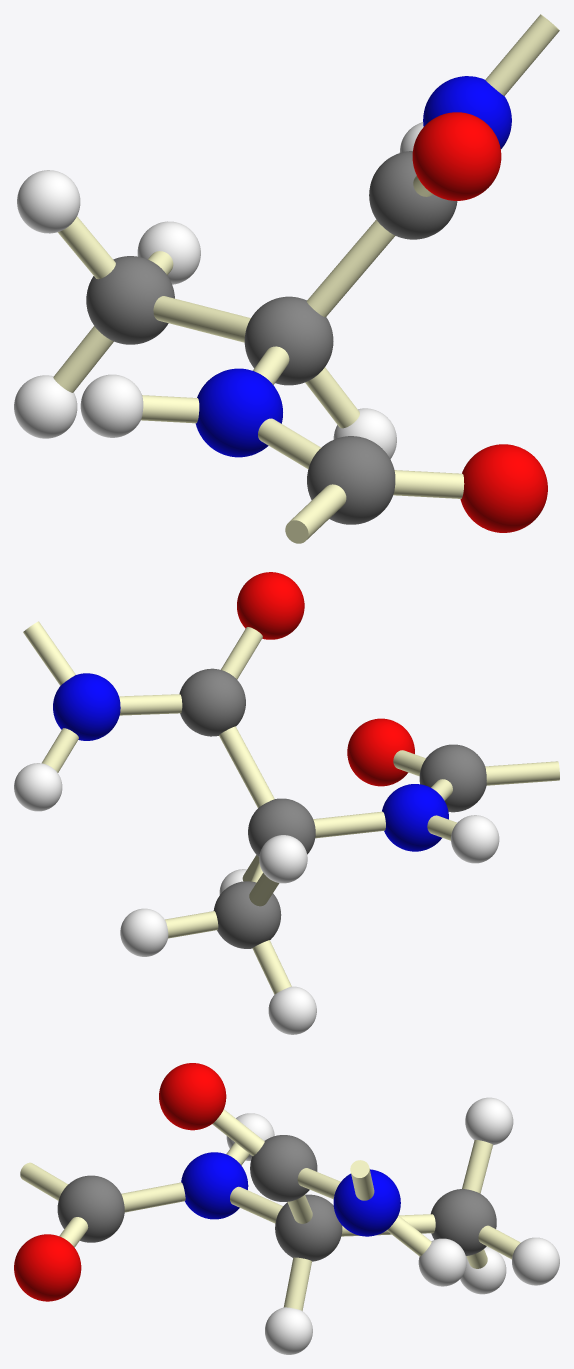
File: conformation.gltf
The picture shows the model from 3 angles, top to bottom: view 1: azimuth 30°, elevation 25°; view 2: azimuth 150°, elevation 25°; view 3: azimuth 270°, elevation 25°; orthographic projection. The views are drawn at different scales.
Parts seen in each view (by area): view 1: ?????????6, ?????????2, ?????????3, ?????????9, ?????????1, ?????????4, ?????????5, ?????????13, ?????????12, ?????????7, ?????????10, ?????????20 (+12 smaller); view 2: ?????????6, ?????????5, ?????????13, ?????????2, ?????????3, ?????????9, ?????????1, ?????????4, ?????????12, ?????????11, ?????????7, ?????????14 (+12 smaller); view 3: ?????????2, ?????????6, ?????????3, ?????????5, ?????????1, ?????????13, ?????????4, ?????????9, ?????????11, ?????????8, ?????????14, ?????????12 (+15 smaller).
Boxes of the visible parts, x1=… form: ?????????6: x1=412, y1=112, x2=501, y2=200; ?????????2: x1=460, y1=444, x2=547, y2=532; ?????????3: x1=195, y1=368, x2=282, y2=457; ?????????9: x1=86, y1=256, x2=174, y2=344; ?????????1: x1=307, y1=436, x2=395, y2=524; ?????????4: x1=244, y1=296, x2=333, y2=385; ?????????5: x1=369, y1=151, x2=457, y2=239; ?????????13: x1=423, y1=76, x2=511, y2=149; ?????????12: x1=17, y1=170, x2=80, y2=233; ?????????7: x1=80, y1=374, x2=143, y2=437; ?????????10: x1=14, y1=375, x2=77, y2=438; ?????????20: x1=306, y1=219, x2=395, y2=317; ?????????6: x1=237, y1=572, x2=304, y2=639; ?????????5: x1=179, y1=668, x2=245, y2=736; ?????????13: x1=53, y1=673, x2=120, y2=740; ?????????2: x1=347, y1=718, x2=414, y2=786; ?????????3: x1=382, y1=784, x2=448, y2=851; ?????????9: x1=213, y1=881, x2=281, y2=948; ?????????1: x1=419, y1=744, x2=486, y2=812; ?????????4: x1=248, y1=798, x2=315, y2=856; ?????????12: x1=259, y1=835, x2=307, y2=883; ?????????11: x1=120, y1=908, x2=168, y2=956; ?????????7: x1=451, y1=815, x2=499, y2=863; ?????????14: x1=14, y1=763, x2=62, y2=811; ?????????2: x1=14, y1=1234, x2=81, y2=1301; ?????????6: x1=159, y1=1063, x2=226, y2=1130; ?????????3: x1=181, y1=1152, x2=248, y2=1219; ?????????5: x1=250, y1=1135, x2=317, y2=1201; ?????????1: x1=57, y1=1175, x2=124, y2=1242; ?????????13: x1=333, y1=1169, x2=400, y2=1236; ?????????4: x1=275, y1=1194, x2=342, y2=1261; ?????????9: x1=430, y1=1189, x2=496, y2=1255; ?????????11: x1=512, y1=1237, x2=559, y2=1285; ?????????8: x1=265, y1=1307, x2=312, y2=1354; ?????????14: x1=418, y1=1238, x2=466, y2=1286; ?????????12: x1=465, y1=1097, x2=513, y2=1145.
Bounding box in the file's own units: 49.59 × 35.24 × 56.76.
